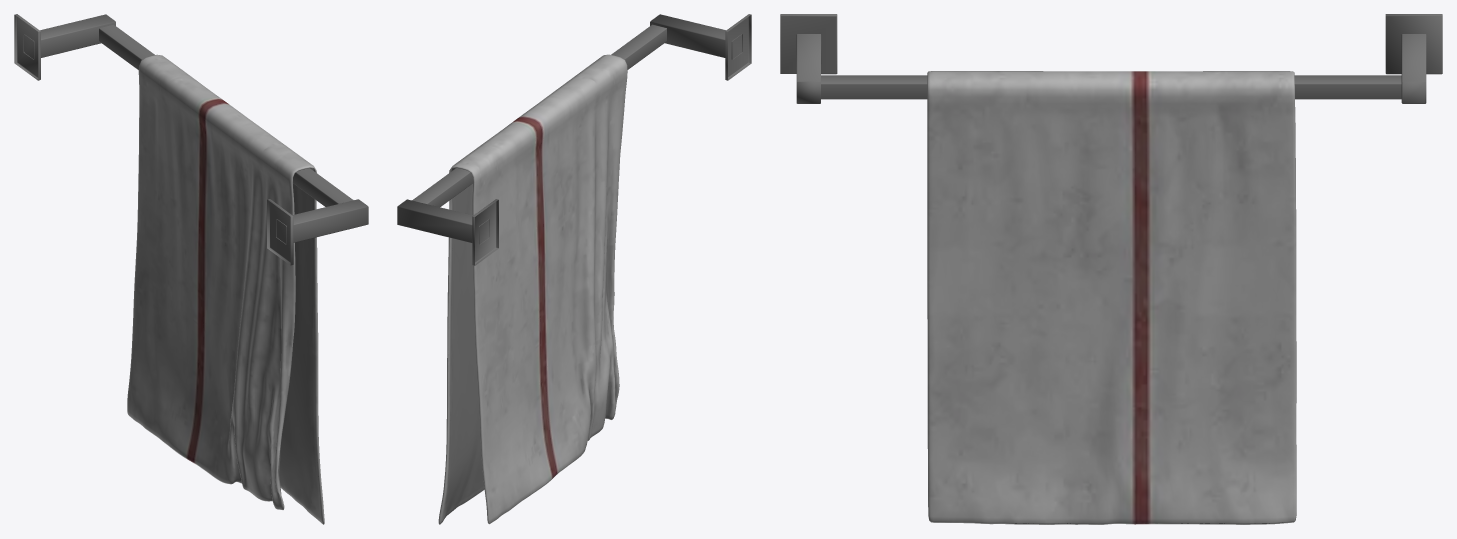
Rendered from towel_rail.glb.
3 renders of one model, left to right at view 1: azimuth 30°, elevation 25°; view 2: azimuth 150°, elevation 25°; view 3: azimuth 270°, elevation 25°, orthographic. The views are drawn at different scales.
Visible parts, largest first — view 1: Plane_Towel_0, Cube.001_Rack_0; view 2: Plane_Towel_0, Cube.001_Rack_0; view 3: Plane_Towel_0, Cube.001_Rack_0.
Part boxes in pixels (box(x1,y1,x2,y2)): Plane_Towel_0: box(127, 54, 324, 524); Cube.001_Rack_0: box(14, 14, 368, 265); Plane_Towel_0: box(438, 54, 627, 524); Cube.001_Rack_0: box(397, 14, 751, 265); Plane_Towel_0: box(927, 71, 1296, 524); Cube.001_Rack_0: box(780, 14, 1442, 103).
Bounding box in the file's own units: 0.392 × 1.38 × 1.83.
Materials: 2 (1 with a texture image).
